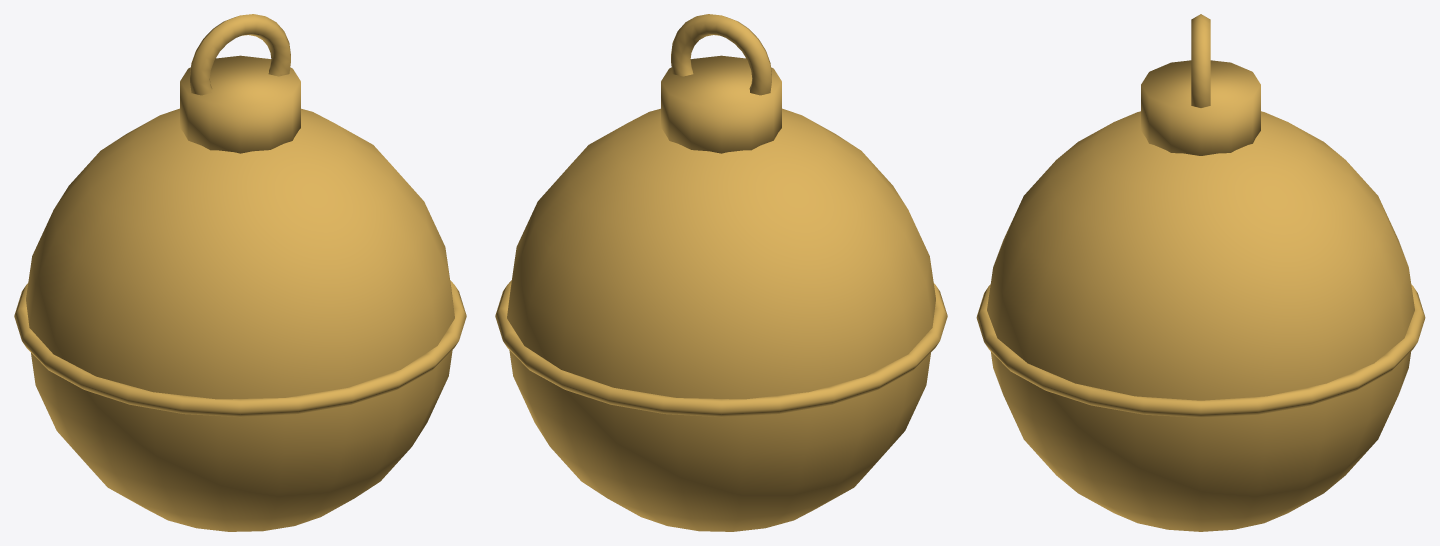
The model's file is ball-gold.glb.
The picture shows the model from 3 angles, left to right: view 1: azimuth 30°, elevation 25°; view 2: azimuth 150°, elevation 25°; view 3: azimuth 270°, elevation 25°; orthographic projection.
Parts seen in each view (by area): view 1: Tint, Cap, Equator ribbon, Hanging loop; view 2: Tint, Cap, Equator ribbon, Hanging loop; view 3: Tint, Cap, Equator ribbon, Hanging loop.
Boxes of the visible parts, x1,y1,x2,y2 form: Tint: [26, 108, 454, 531]; Cap: [180, 55, 300, 153]; Equator ribbon: [14, 280, 466, 417]; Hanging loop: [190, 14, 290, 95]; Tint: [507, 108, 935, 531]; Cap: [661, 55, 781, 153]; Equator ribbon: [495, 280, 947, 417]; Hanging loop: [671, 14, 771, 95]; Tint: [987, 111, 1414, 531]; Cap: [1141, 60, 1260, 155]; Equator ribbon: [976, 284, 1425, 417]; Hanging loop: [1191, 14, 1210, 107].
Bounding box in the file's own units: 0.24 × 0.291 × 0.24.
